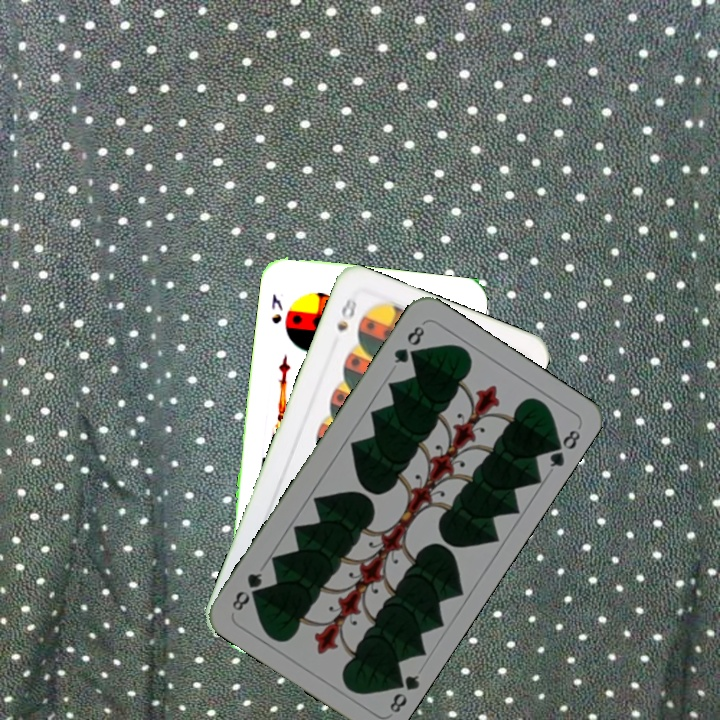G8: (385, 669, 423, 716), (390, 321, 427, 366)
S8: (332, 293, 360, 334)
SK: (267, 290, 285, 327)
